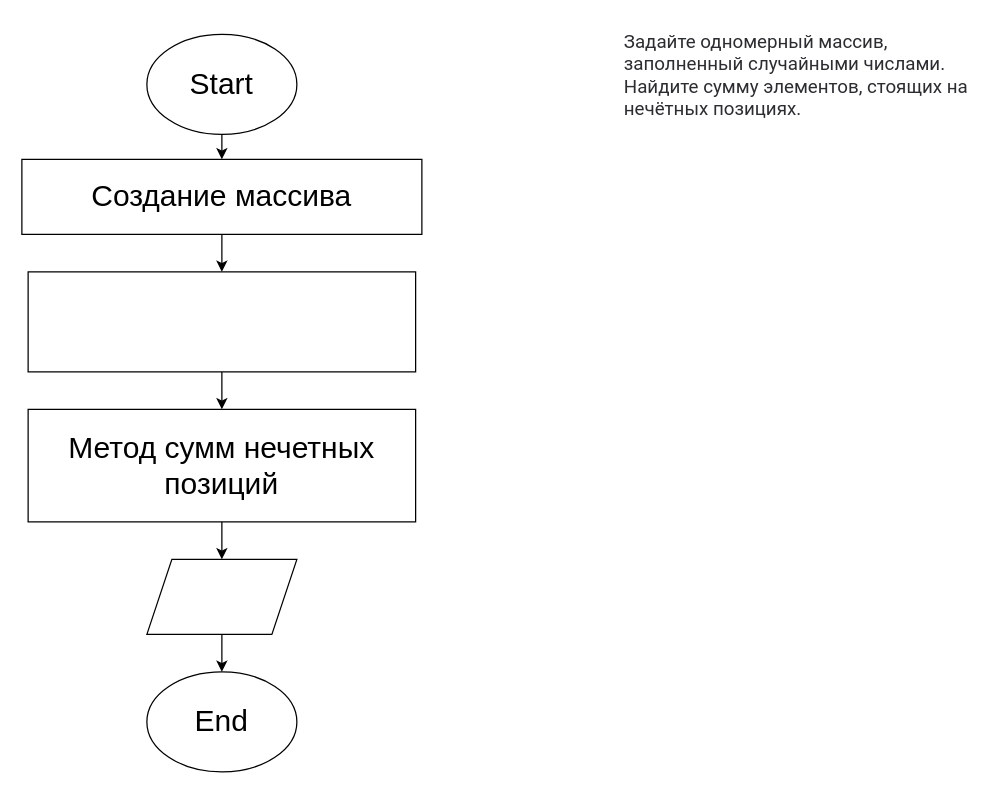
Some shapes in this 1006 by 794 pixel diagram are drawn without their labels. Here are the shapes that lost their labels. From the top down, the centre of each, then its label:
At [221,321]: "Метод заполнения случайными числами".
At [221,596]: "print".
